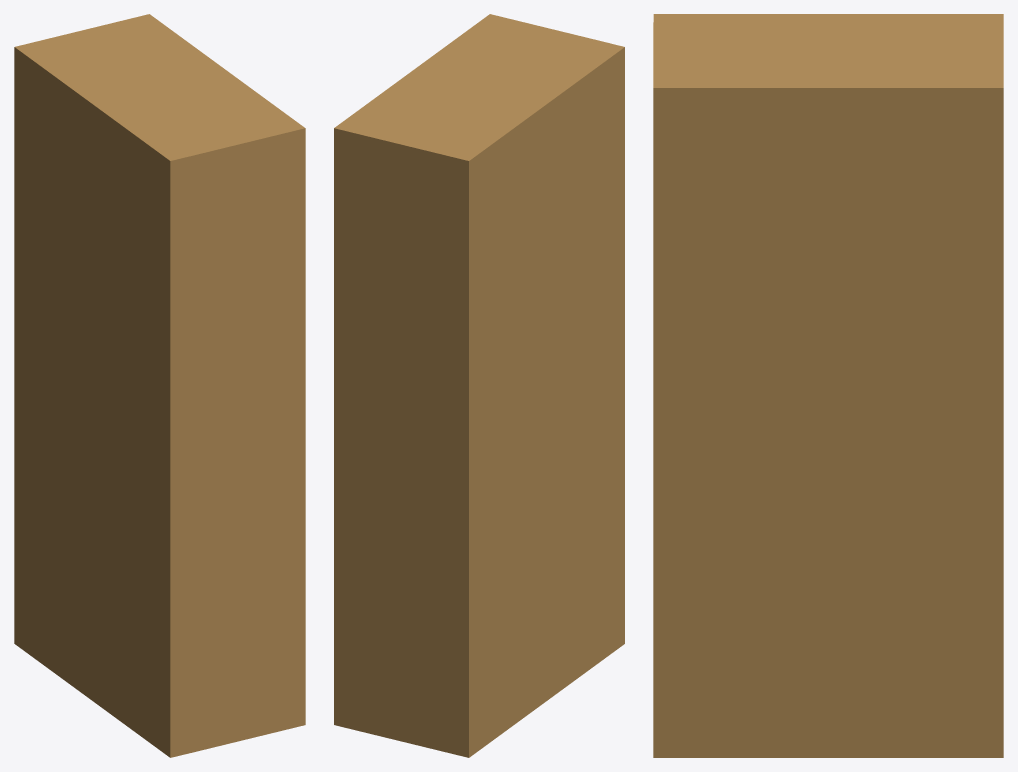
3 views of the same model, side by side, from view 1: azimuth 30°, elevation 25°; view 2: azimuth 150°, elevation 25°; view 3: azimuth 270°, elevation 25° (orthographic). The views are drawn at different scales.
Visible parts, largest first — view 1: GAP-29-R-king_stud-p4; view 2: GAP-29-R-king_stud-p4; view 3: GAP-29-R-king_stud-p4.
Boxes of the visible parts, bbox=[...] form: GAP-29-R-king_stud-p4: bbox=[14, 14, 305, 757]; GAP-29-R-king_stud-p4: bbox=[334, 14, 624, 757]; GAP-29-R-king_stud-p4: bbox=[653, 14, 1003, 757].
Size of the model in its own units: 0.045 by 0.19 by 0.09.
